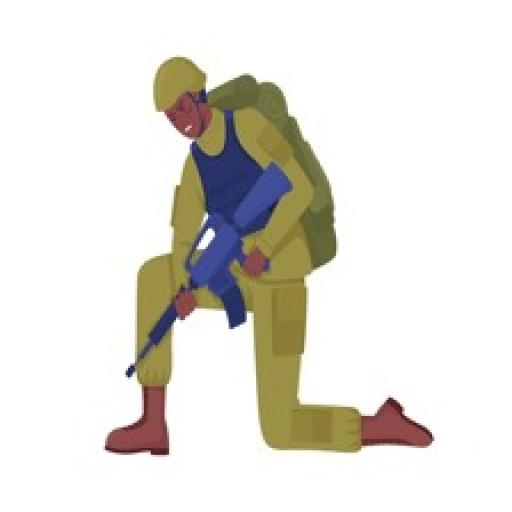human: (100, 52, 439, 462)
